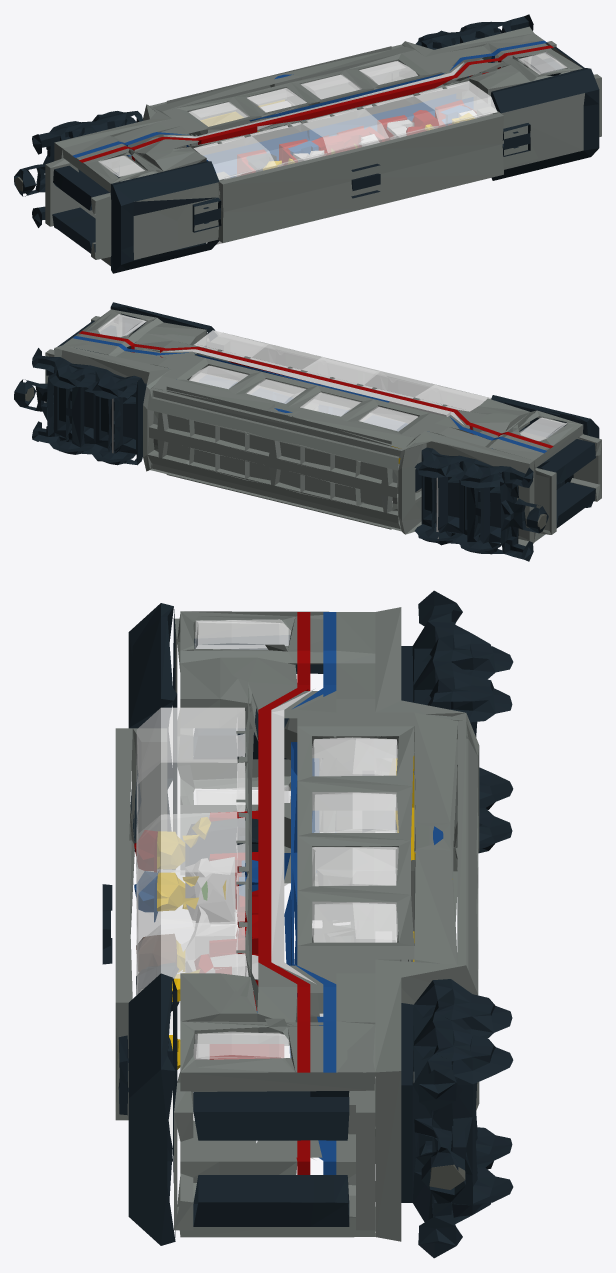
Rendered from club-car.glb.
The picture shows the model from 3 angles, top to bottom: view 1: azimuth 30°, elevation 25°; view 2: azimuth 150°, elevation 25°; view 3: azimuth 270°, elevation 25°; orthographic projection. The views are drawn at different scales.
Size of the model in its own units: 298 by 51.36 by 101.
